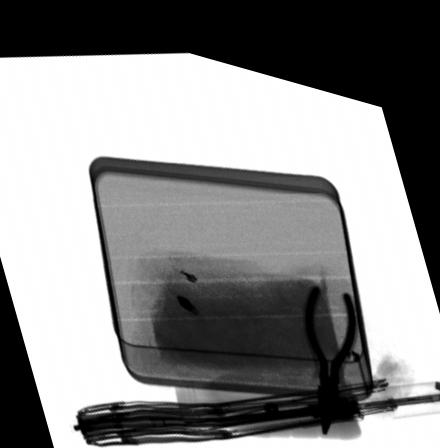Pliers: (303, 265, 357, 418)
